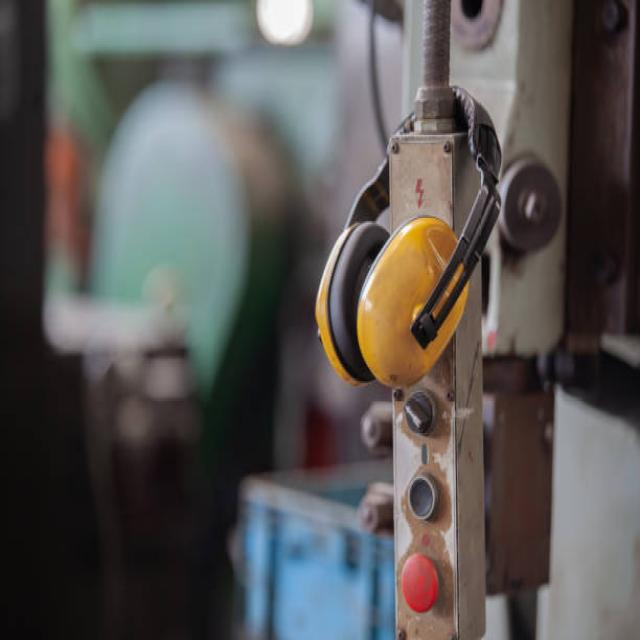Ear-protection: (308, 84, 536, 394)
